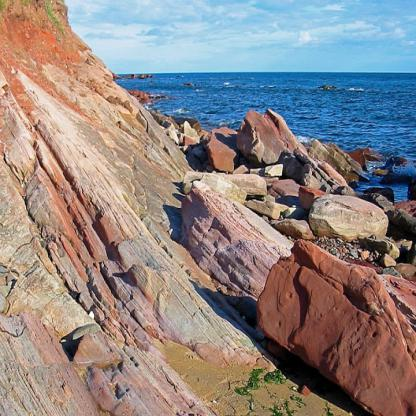Sedimentary_Sandstone: (249, 224, 416, 415), (174, 183, 288, 302), (1, 3, 66, 92), (310, 192, 391, 248), (55, 322, 130, 374), (160, 262, 206, 341), (198, 129, 245, 171), (93, 200, 128, 247)
